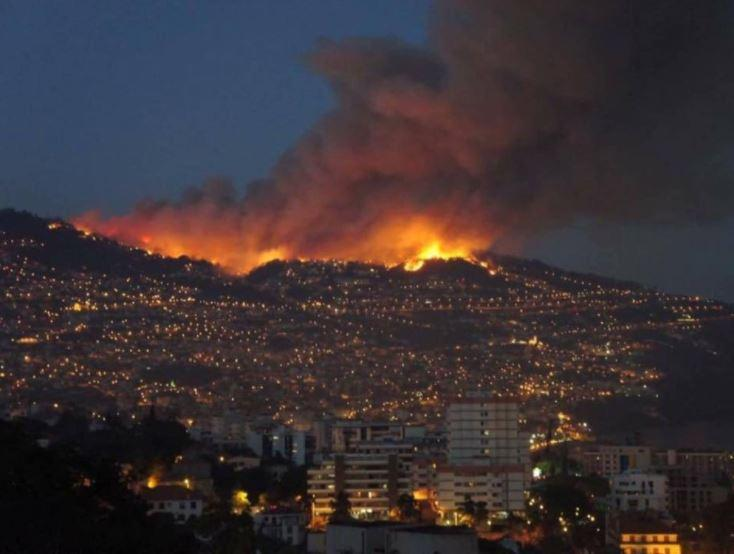Fire: (399, 240, 489, 275)
